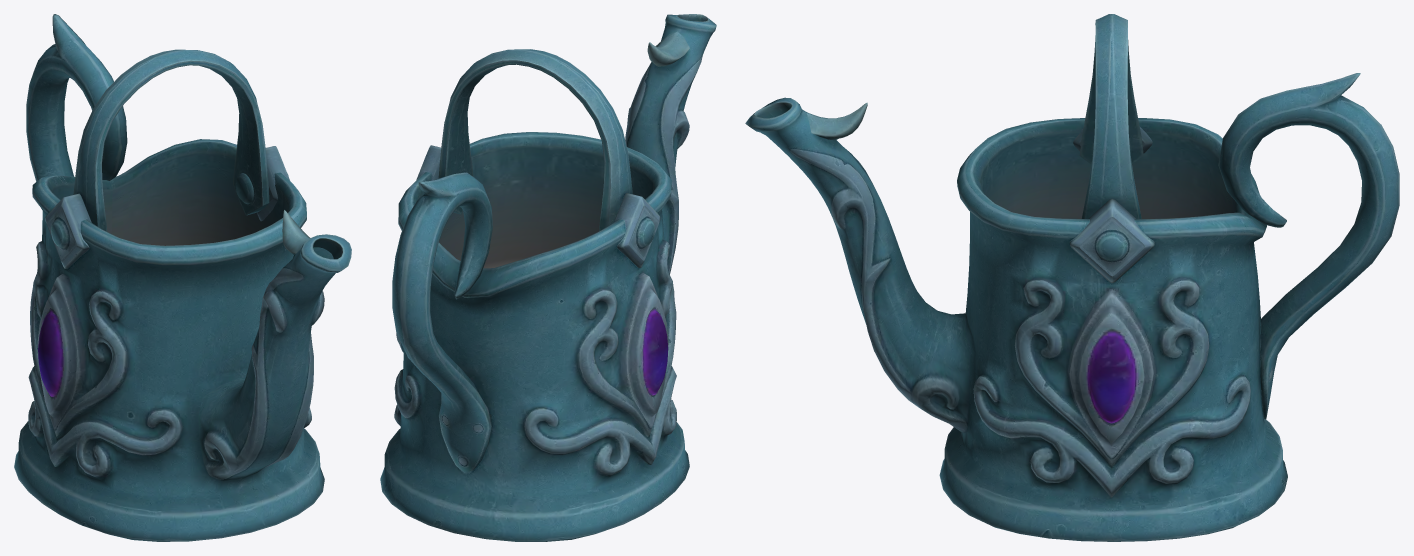
The picture shows the model from 3 angles, left to right: view 1: azimuth 30°, elevation 25°; view 2: azimuth 150°, elevation 25°; view 3: azimuth 270°, elevation 25°; orthographic projection. The views are drawn at different scales.
Parts seen in each view (by area): view 1: SM_WateringCan_Rune_2H_01_LOD0; view 2: SM_WateringCan_Rune_2H_01_LOD0; view 3: SM_WateringCan_Rune_2H_01_LOD0.
Boxes of the visible parts, box(x1,y1,x2,y2) form: SM_WateringCan_Rune_2H_01_LOD0: box(14, 14, 351, 541); SM_WateringCan_Rune_2H_01_LOD0: box(380, 14, 716, 541); SM_WateringCan_Rune_2H_01_LOD0: box(745, 14, 1399, 541).
Size of the model in its own units: 0.3358 by 0.5315 by 0.6891.
Materials: 1 (1 with a texture image).
